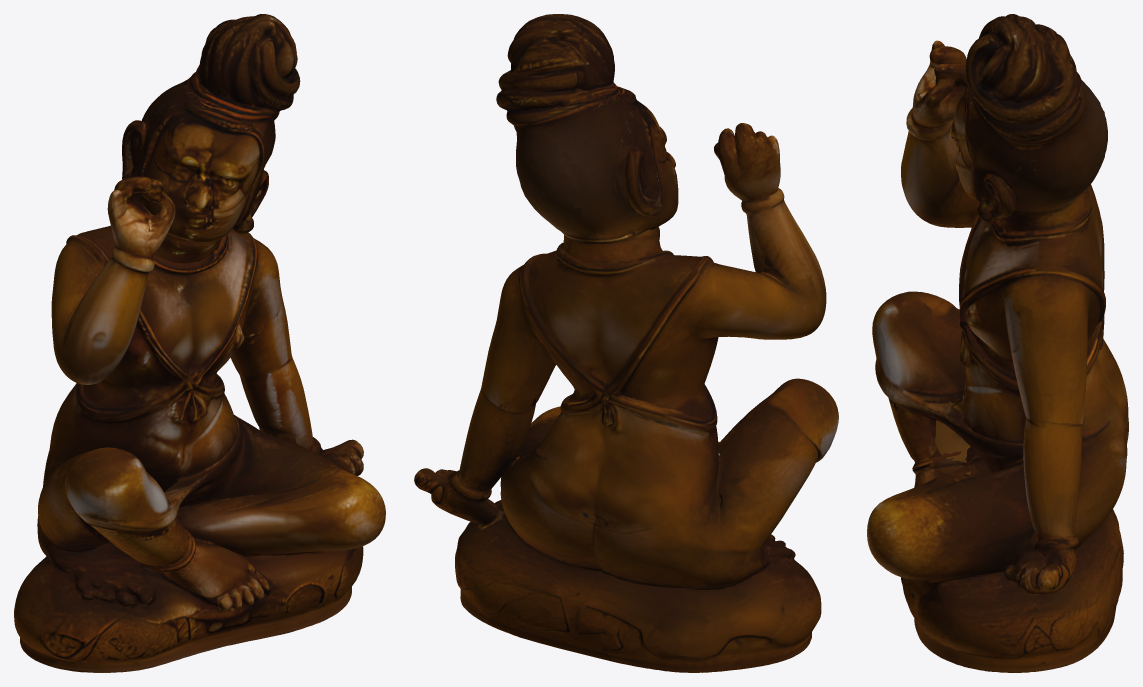
The picture shows the model from 3 angles, left to right: view 1: azimuth 30°, elevation 25°; view 2: azimuth 150°, elevation 25°; view 3: azimuth 270°, elevation 25°; orthographic projection. The views are drawn at different scales.
Parts seen in each view (by area): view 1: textured_mesh; view 2: textured_mesh; view 3: textured_mesh.
Boxes of the visible parts, x1,y1,x2,y2 form: textured_mesh: (14, 14, 385, 672); textured_mesh: (414, 14, 838, 672); textured_mesh: (867, 14, 1128, 672).
Bounding box in the file's own units: 1.32 × 1.99 × 0.7774.
1 material, 1 textured.
